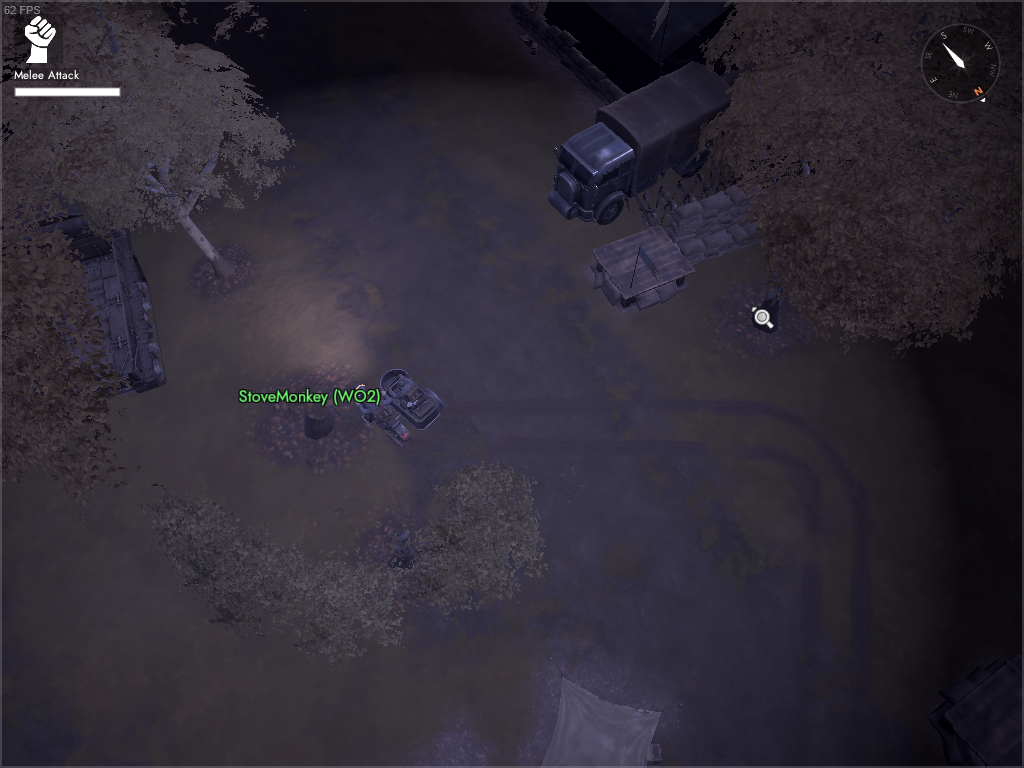flatbed: (7, 170, 170, 410)
foxhole: (516, 654, 692, 768)
motorcycle: (347, 360, 451, 451)
pillbox: (920, 648, 1023, 768), (583, 221, 700, 317)
player: (350, 381, 401, 433), (381, 370, 424, 413)
sandbag: (666, 174, 791, 271)
truck: (541, 55, 746, 231)
wire: (621, 141, 793, 233)
